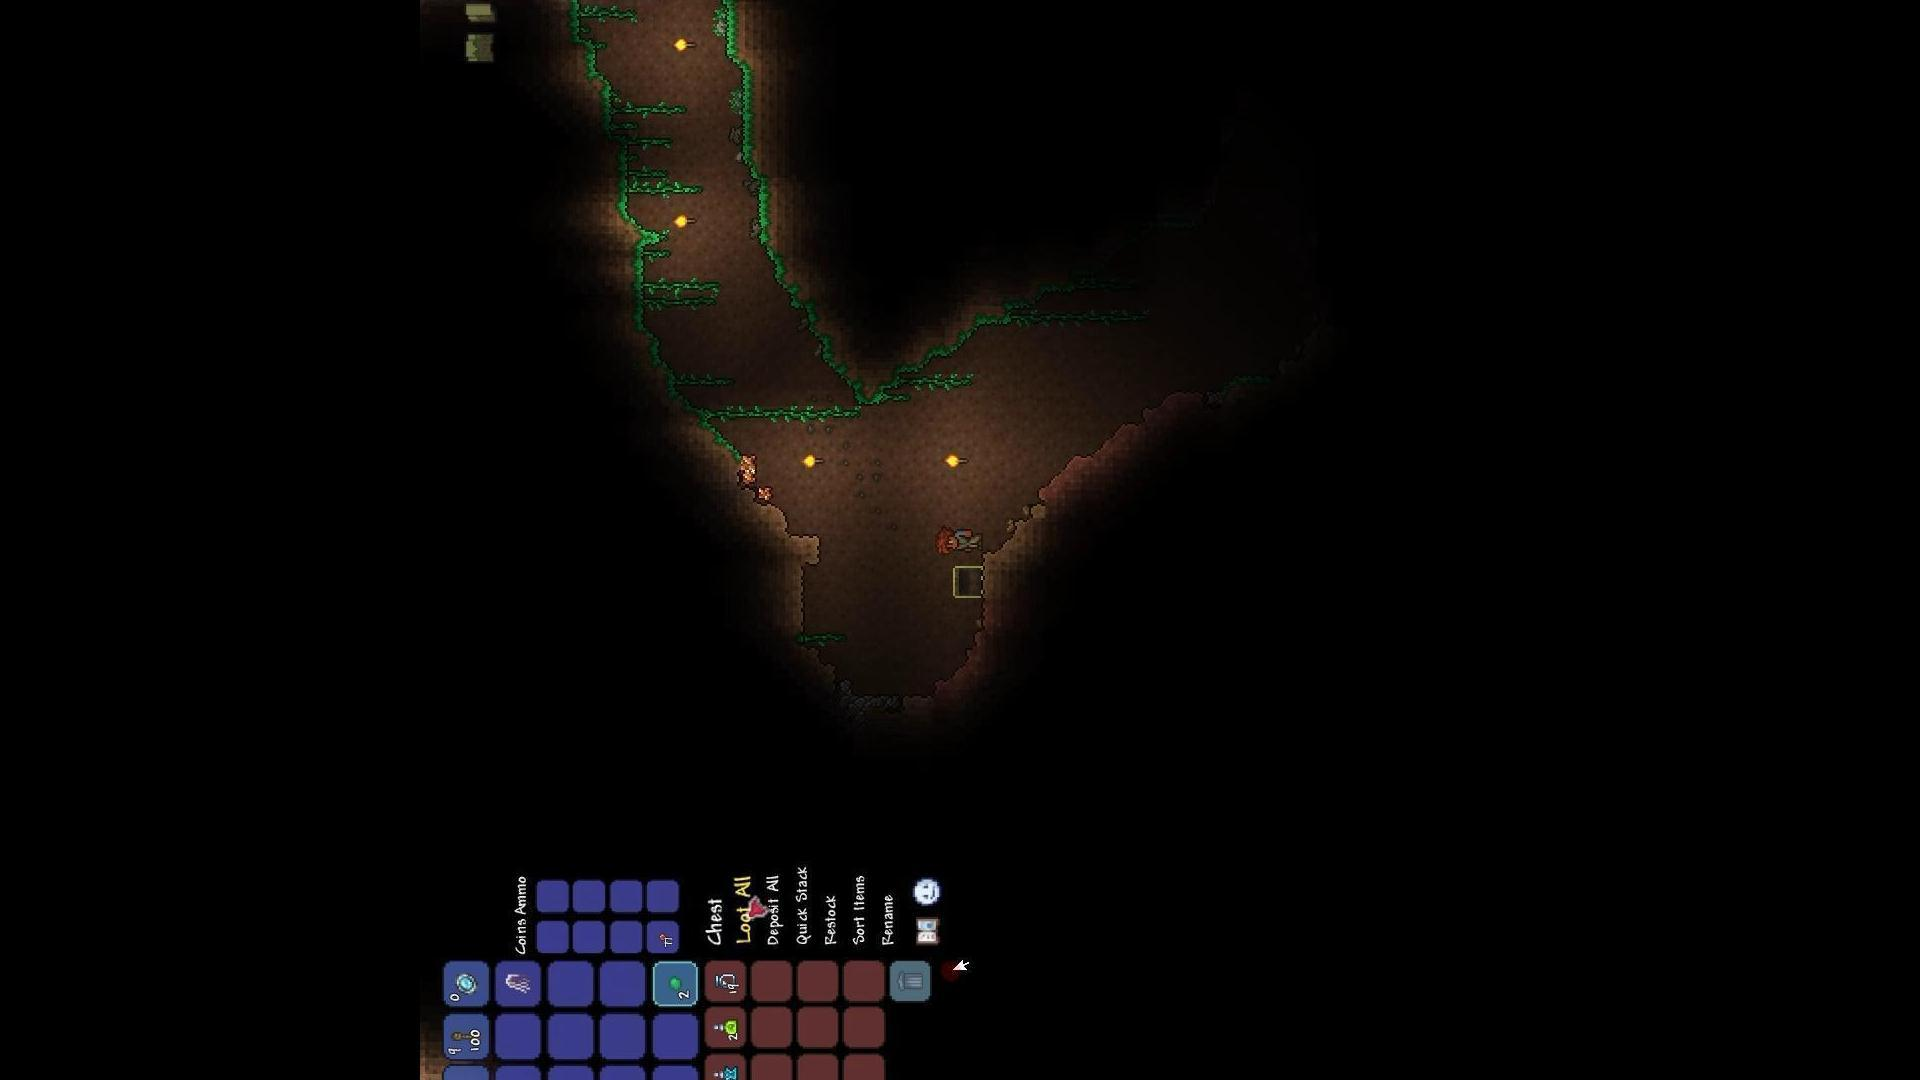recallP: (698, 1046, 745, 1080)
